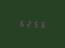five: (32, 20, 38, 28)
six: (18, 19, 24, 27), (39, 20, 45, 28)
two: (25, 19, 31, 27)
